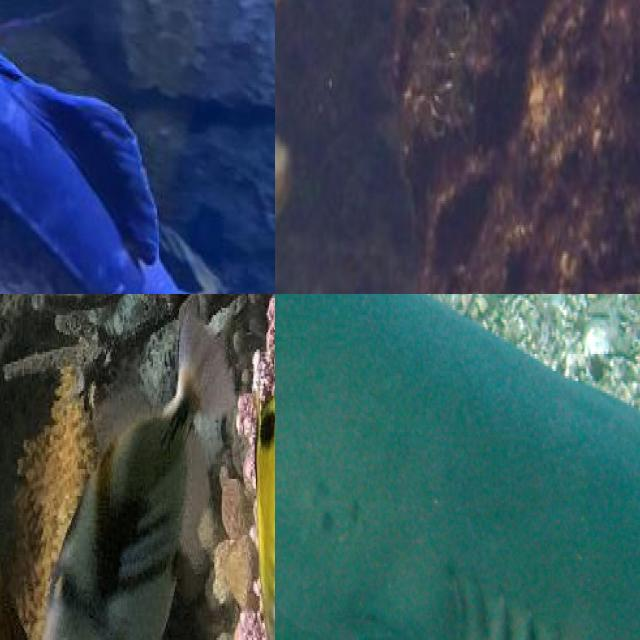fish: (275, 294, 640, 640), (0, 0, 275, 294), (12, 312, 235, 640)
